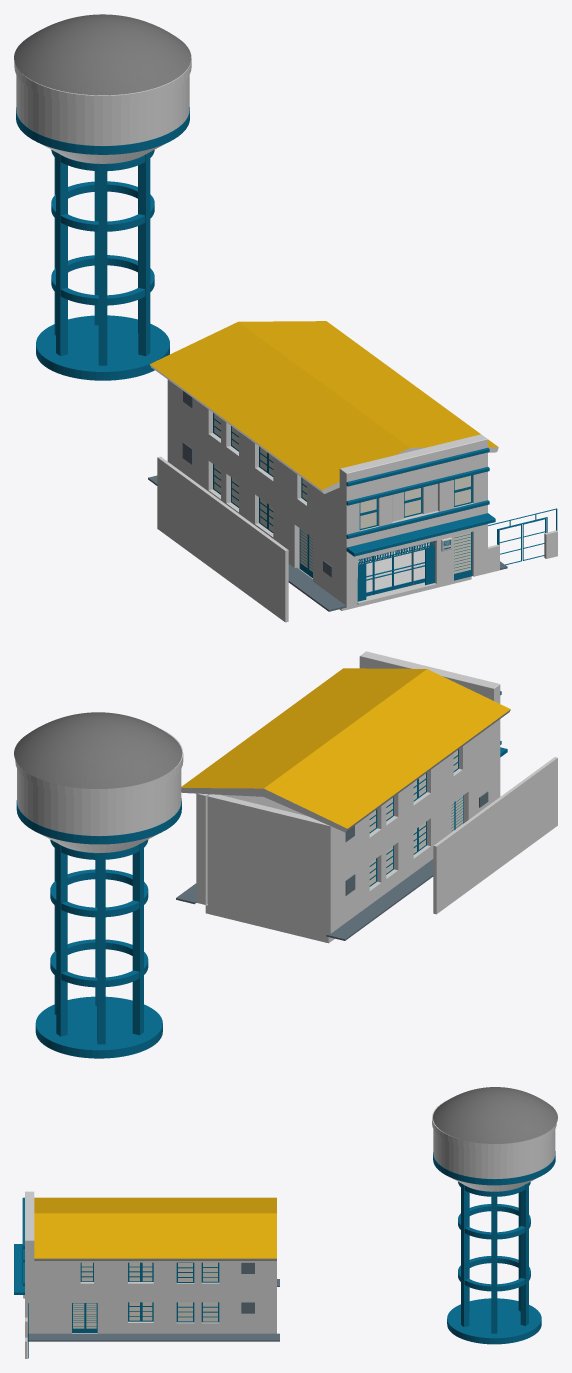
The model's file is corsan.glb.
3 renders of one model, top to bottom at view 1: azimuth 30°, elevation 25°; view 2: azimuth 150°, elevation 25°; view 3: azimuth 270°, elevation 25°, orthographic. The views are drawn at different scales.
Parts seen in each view (by area): view 1: Cube.202, Cube.030, Sphere, Cube.203, Cube, Cylinder.029, Cube.032, Cylinder.034, Cube.016, Cube.078, Cylinder.036, Cylinder.035 (+7 smaller); view 2: Cube.202, Cube.201, Cube.030, Sphere, Cube.203, Cylinder.029, Cube.032, Cylinder.034, Cube.027, Cube.031, Cube.016, Cylinder.030 (+6 smaller); view 3: Cube.202, Cube.031, Sphere, Cylinder.029, Cube.032, Cylinder.034, Cube.028, Cylinder.030, Cylinder.035, Cylinder.033, Cylinder.036, Cube (+7 smaller).
Boxes of the visible parts, <box> form: Cube.202: <box>149,321,498,493</box>; Cube.030: <box>167,380,339,600</box>; Sphere: <box>14,14,191,95</box>; Cube.203: <box>157,456,288,622</box>; Cube: <box>339,458,487,607</box>; Cylinder.029: <box>16,75,189,163</box>; Cube.032: <box>54,152,150,365</box>; Cylinder.034: <box>36,315,169,380</box>; Cube.016: <box>339,434,487,492</box>; Cube.078: <box>300,542,471,610</box>; Cylinder.036: <box>14,58,191,104</box>; Cylinder.035: <box>51,255,154,305</box>; Cube.202: <box>181,668,510,832</box>; Cube.201: <box>207,794,330,934</box>; Cube.030: <box>330,724,493,933</box>; Sphere: <box>14,712,182,788</box>; Cube.203: <box>433,757,557,914</box>; Cylinder.029: <box>17,769,181,852</box>; Cube.032: <box>54,842,143,1044</box>; Cylinder.034: <box>35,996,162,1058</box>; Cube.027: <box>326,859,433,940</box>; Cube.031: <box>196,793,307,904</box>; Cube.016: <box>359,651,500,703</box>; Cylinder.030: <box>50,869,148,917</box>; Cube.202: <box>34,1197,276,1260</box>; Cube.031: <box>34,1261,276,1333</box>; Sphere: <box>433,1087,557,1143</box>; Cylinder.029: <box>433,1129,555,1191</box>; Cube.032: <box>461,1183,528,1333</box>; Cylinder.034: <box>447,1298,541,1344</box>; Cube.028: <box>27,1333,279,1341</box>; Cylinder.030: <box>458,1204,530,1239</box>; Cylinder.035: <box>458,1256,530,1291</box>; Cylinder.033: <box>433,1151,555,1185</box>; Cylinder.036: <box>432,1099,556,1149</box>; Cube: <box>25,1253,34,1333</box>.
Size of the model in its own units: 16.46 by 18.62 by 40.11.
